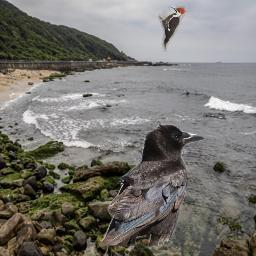Crow: (99, 123, 206, 246)
Woodpecker: (158, 6, 186, 52)
